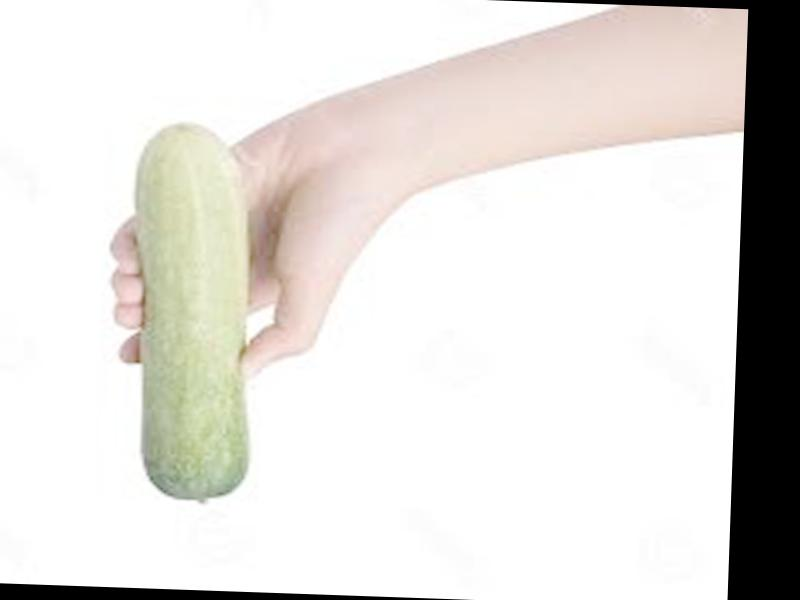Cucumber: (128, 119, 267, 507)
